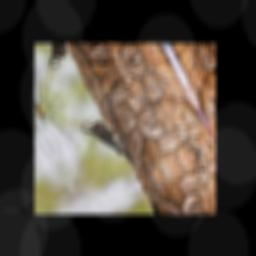Woodpecker: (79, 106, 139, 178)
